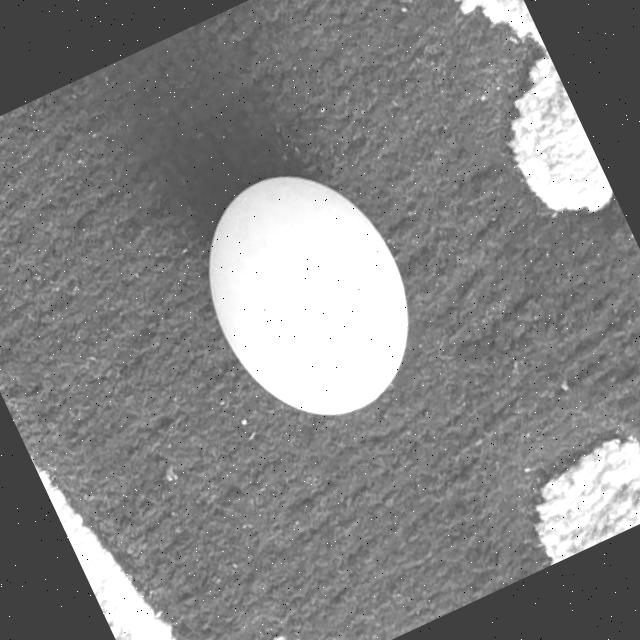ping-pong-ball: (174, 146, 438, 438)
